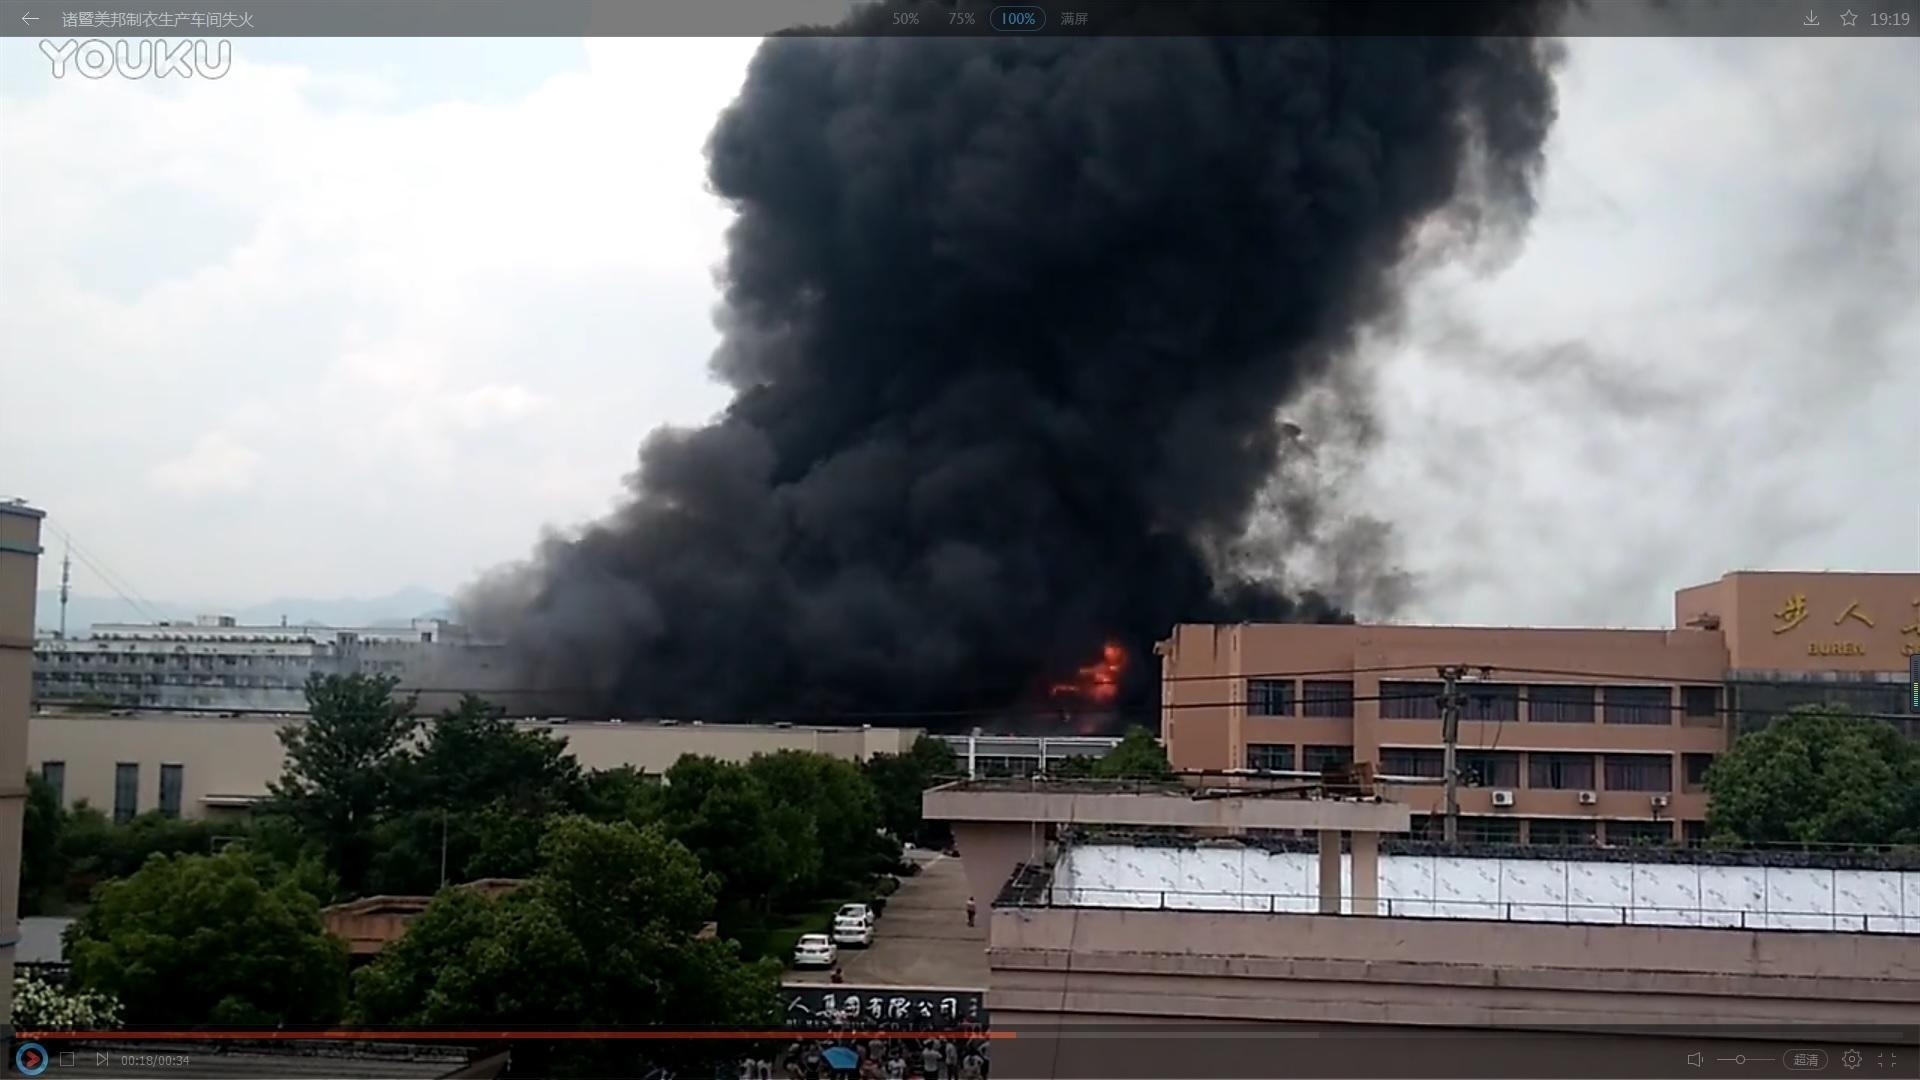fire: (1051, 637, 1131, 702)
